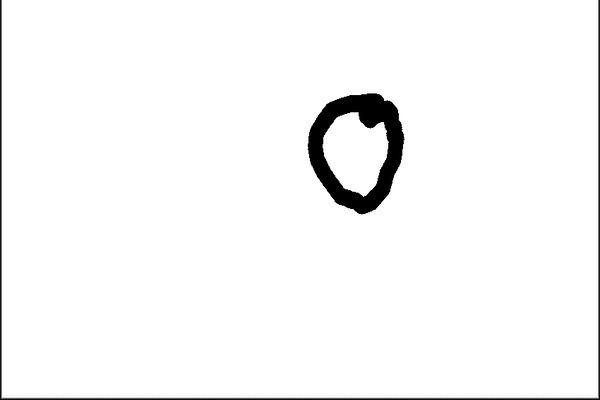O: (302, 88, 412, 217)
